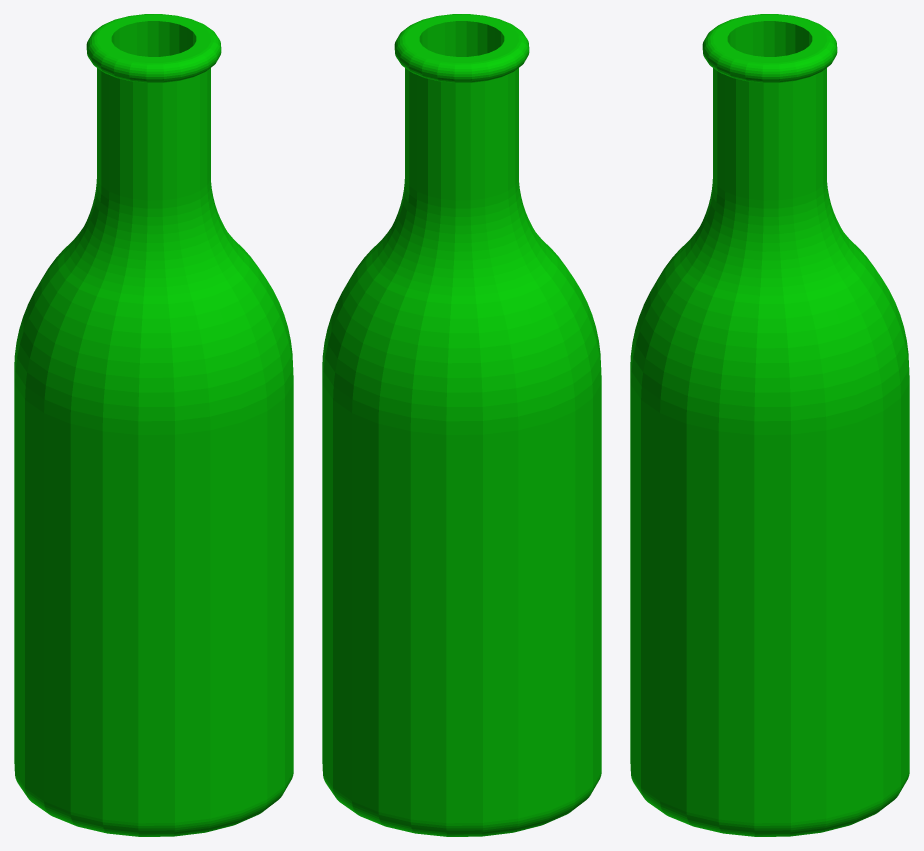
3 views of the same model, side by side, from view 1: azimuth 30°, elevation 25°; view 2: azimuth 150°, elevation 25°; view 3: azimuth 270°, elevation 25° (orthographic).
Visible parts, largest first — view 1: mesh1_mesh1-geometry; view 2: mesh1_mesh1-geometry; view 3: mesh1_mesh1-geometry.
Part boxes in pixels (x1,y1,x2,y2): mesh1_mesh1-geometry: [14, 14, 293, 836]; mesh1_mesh1-geometry: [322, 14, 601, 836]; mesh1_mesh1-geometry: [630, 14, 909, 836].
Size of the model in its own units: 0.3059 by 0.9015 by 0.306.
